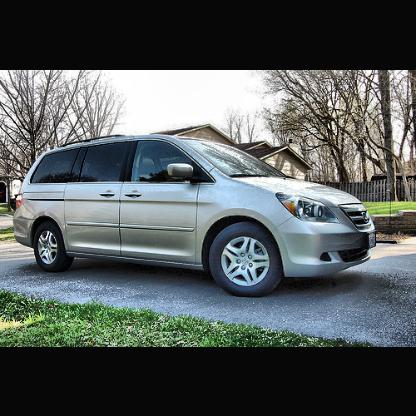Honda Odyssey Minivan 2007: (14, 134, 379, 296)
